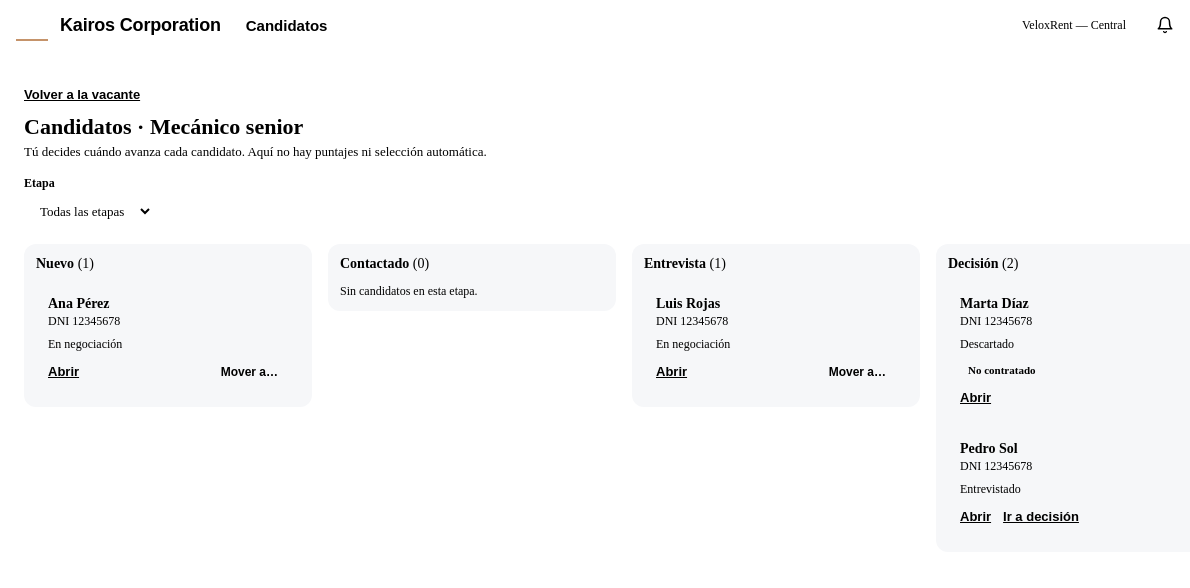
CandidatesBoardScreen (REC-03) › en conflicto de versión recarga y avisa
The width and height of the screenshot is (1190, 588).
Expected: the text "Ana Pérez" is shown, left=48, top=296, right=110, bottom=311
Click the button with aria-label "Mover a… Ana Pérez" at (249, 372), box left=211, top=360, right=288, bottom=382
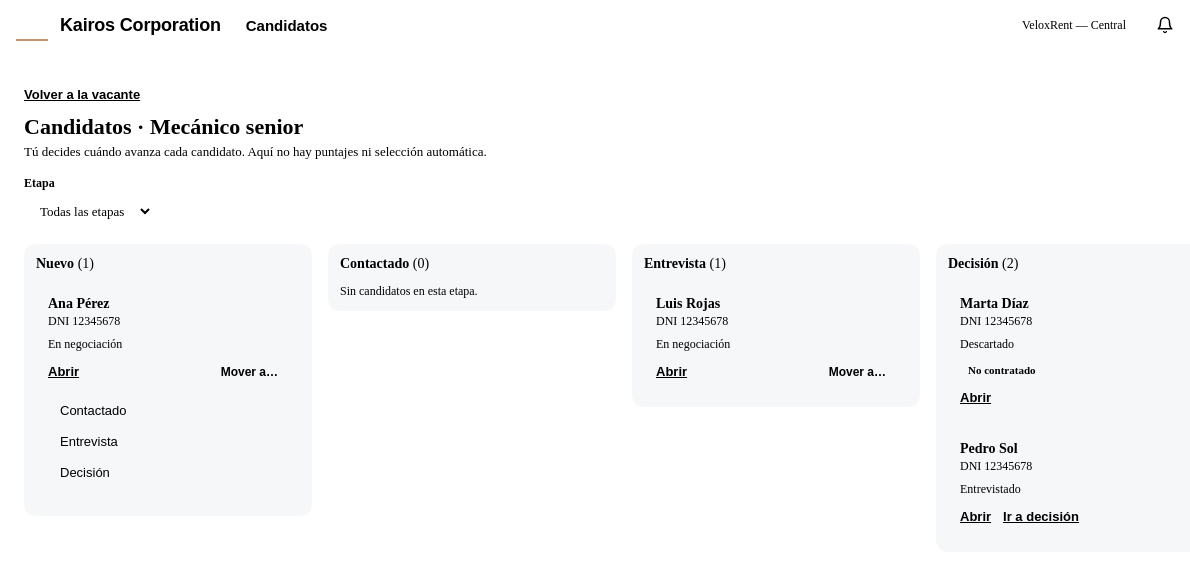
Click the button "Entrevista" at (168, 442), box left=52, top=426, right=284, bottom=457
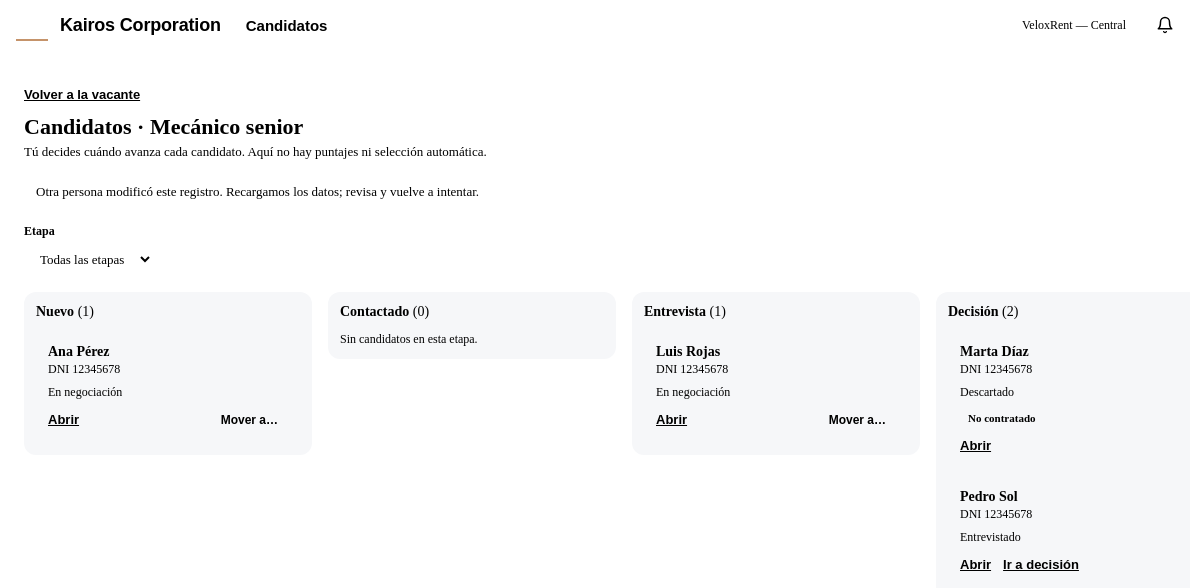
Expected: the message shows "Otra persona modificó", left=36, top=184, right=479, bottom=199
